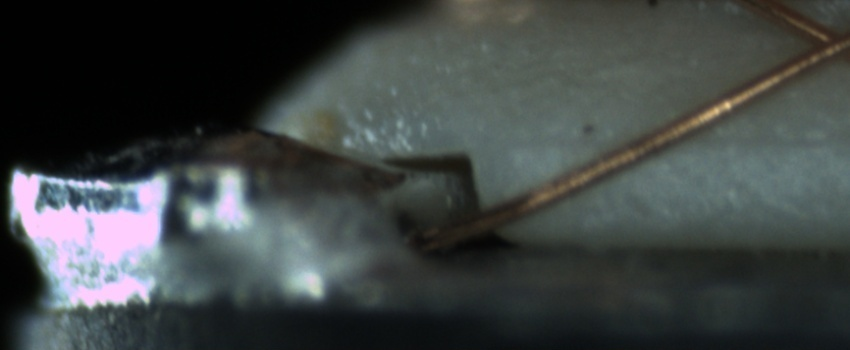CL: (778, 11, 848, 75)
DL: (520, 108, 850, 172)
